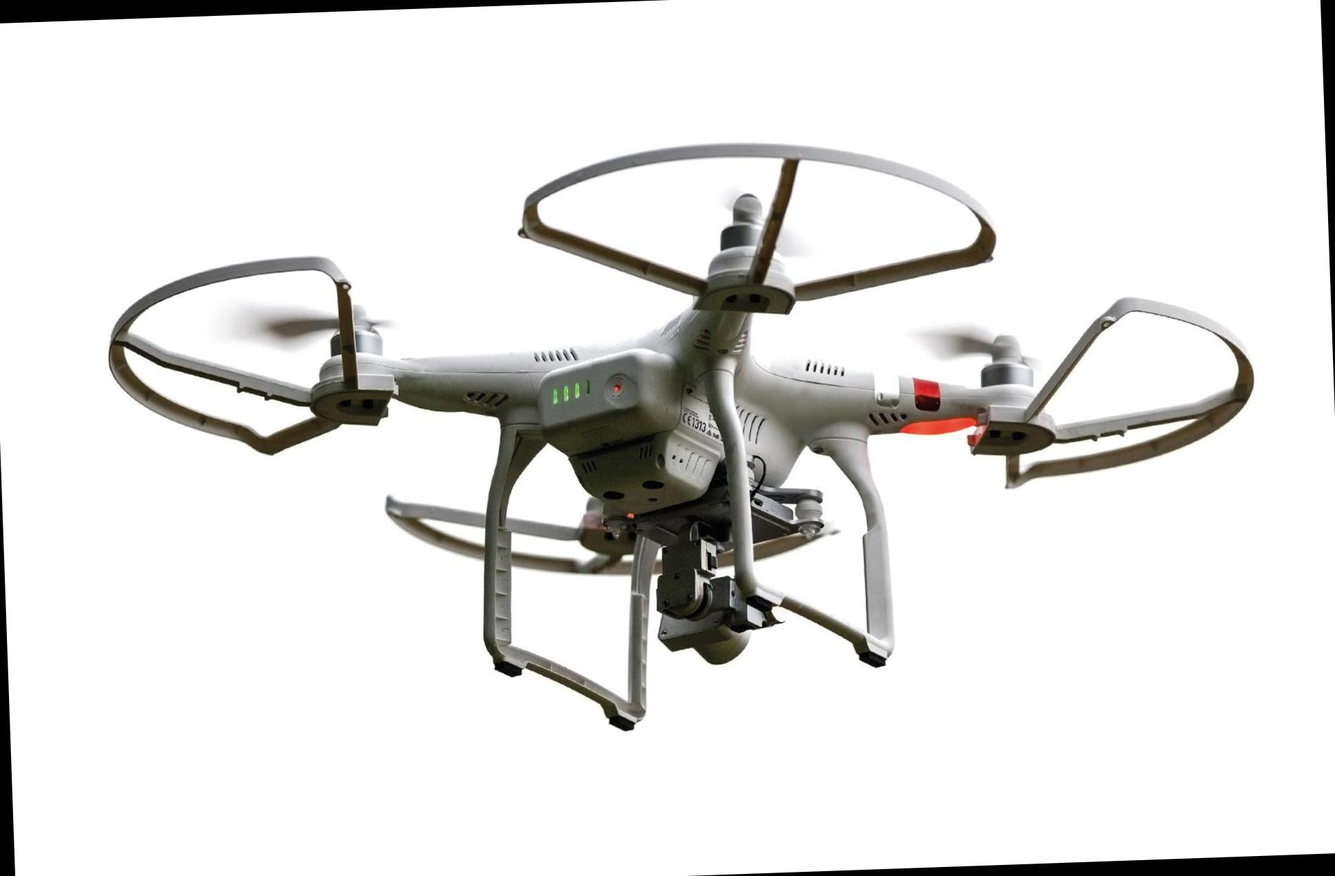drone: (82, 155, 1301, 667)
